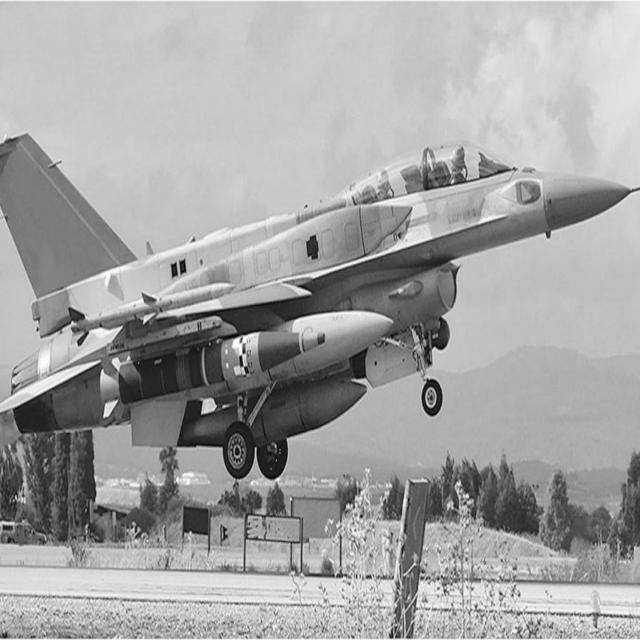missile: (86, 313, 333, 425)
